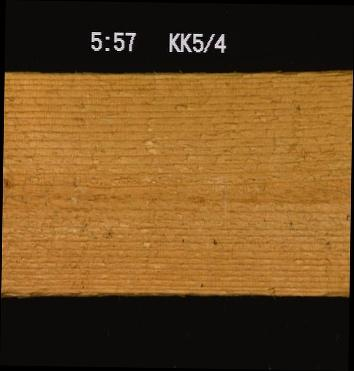small_knot: (2, 171, 12, 192)
wave: (315, 285, 348, 296)
